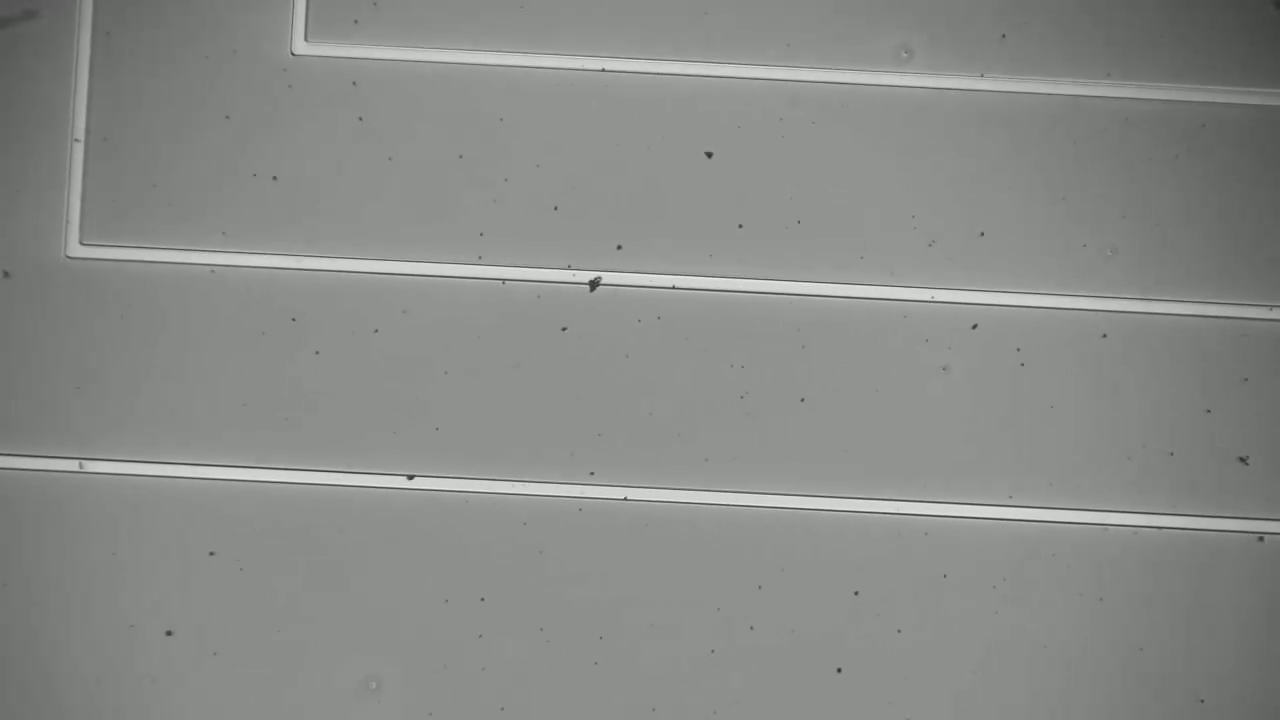stains_enbedded: (581, 263, 610, 298)
